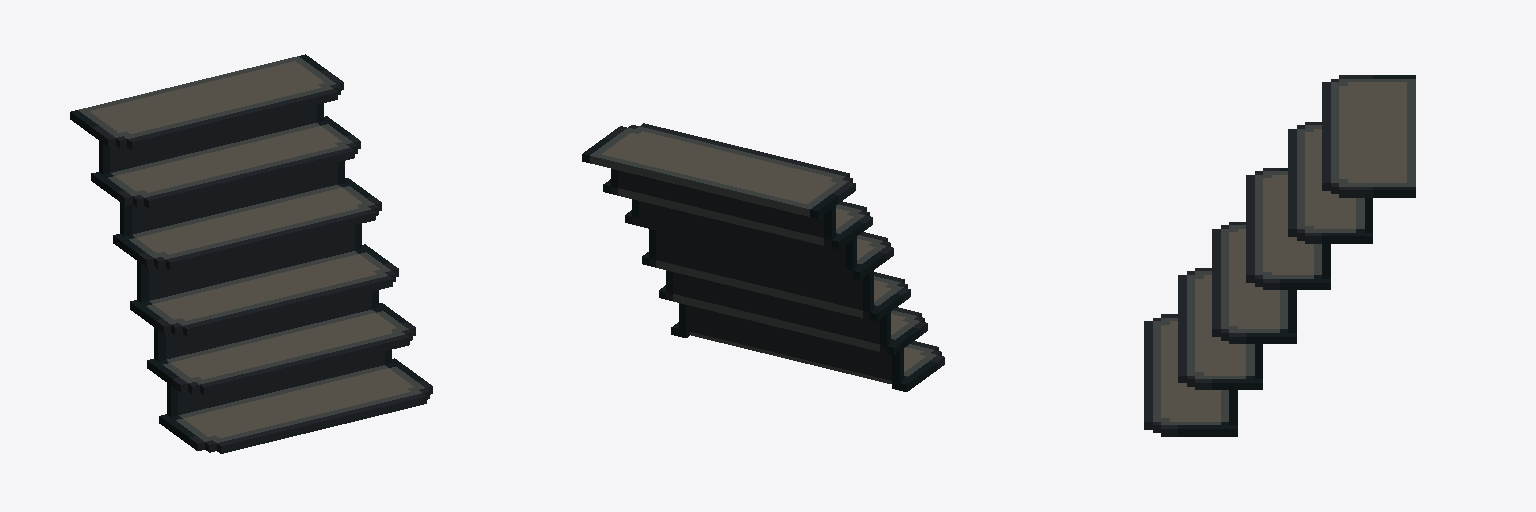
3 renders of one model, left to right at view 1: azimuth 30°, elevation 25°; view 2: azimuth 150°, elevation 25°; view 3: azimuth 270°, elevation 25°, orthographic.
Parts seen in each view (by area): view 1: object 1; view 2: object 1; view 3: object 1.
Boxes of the visible parts, box(x1,y1,x2,y2) form: object 1: box(70, 54, 432, 453); object 1: box(582, 123, 944, 391); object 1: box(1144, 75, 1415, 436).
Size of the model in its own units: 3.2 by 3.2 by 3.2.
Materials: 1 (1 with a texture image).